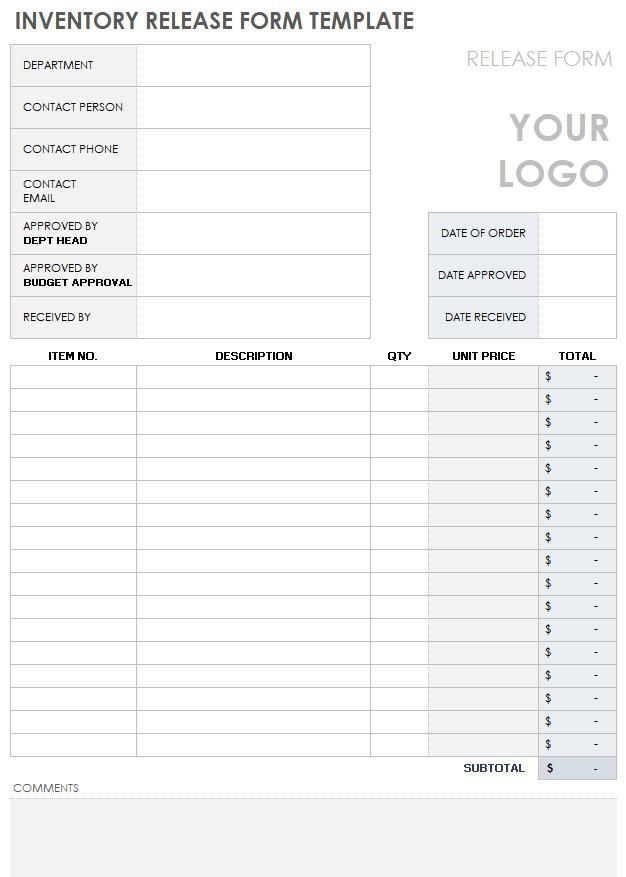table: (11, 366, 618, 782), (5, 39, 378, 345), (426, 207, 623, 345)
